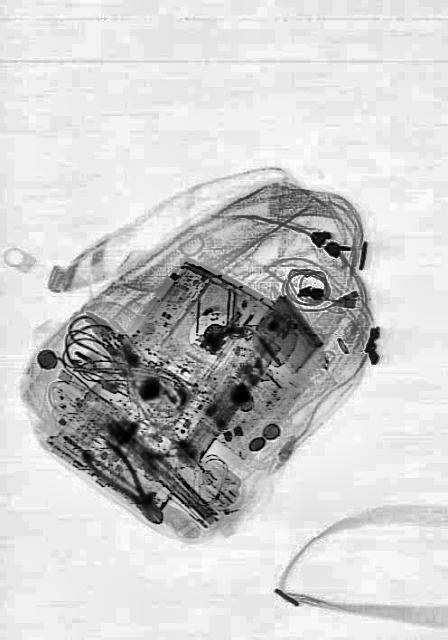Pliers: (78, 424, 172, 536)
